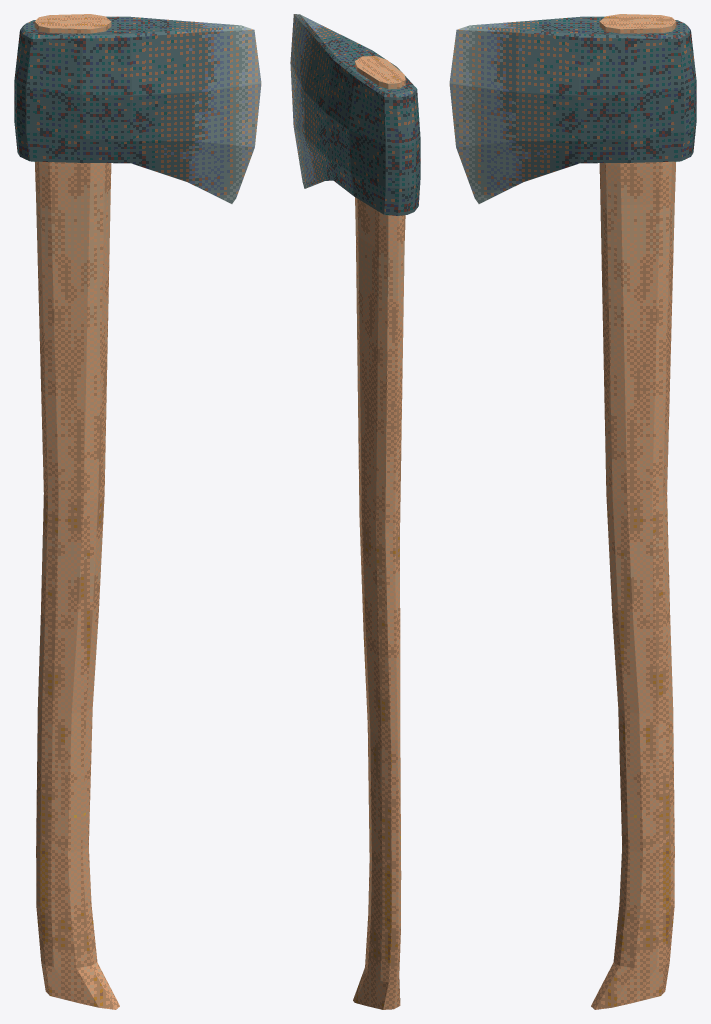
The model's file is jauregi.glb.
3 views of the same model, side by side, from view 1: azimuth 90°, elevation 25°; view 2: azimuth 210°, elevation 25°; view 3: azimuth 270°, elevation 25° (orthographic). The views are drawn at different scales.
Parts seen in each view (by area): view 1: Cube; view 2: Cube; view 3: Cube.
Boxes of the visible parts, x1,y1,x2,y2 form: Cube: (14,14,261,1009); Cube: (290,14,420,1009); Cube: (449,14,696,1009).
Size of the model in its own units: 0.0455 by 0.7484 by 0.1702.
1 material, 1 textured.
